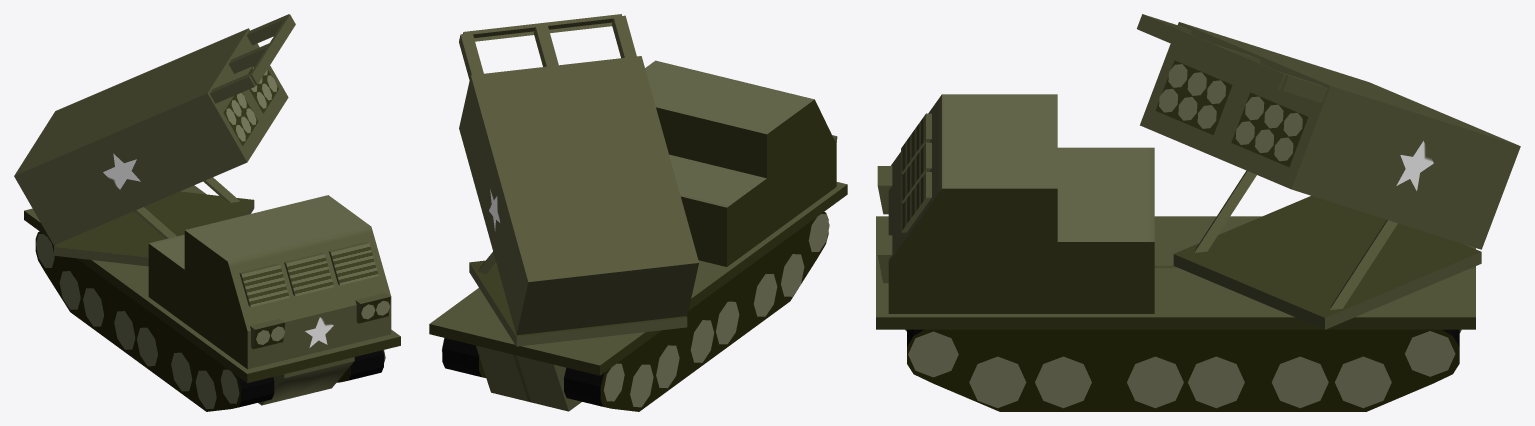
Rendered from MLRS.DAE.
3 renders of one model, left to right at view 1: azimuth 30°, elevation 25°; view 2: azimuth 150°, elevation 25°; view 3: azimuth 270°, elevation 25°, orthographic. The views are drawn at different scales.
Parts seen in each view (by area): view 1: MLRS; view 2: MLRS; view 3: MLRS.
Part boxes in pixels (x1=…): MLRS: x1=14, y1=14, x2=400, y2=411; MLRS: x1=429, y1=14, x2=847, y2=411; MLRS: x1=876, y1=14, x2=1520, y2=411.
Size of the model in its own units: 1266 by 1332 by 2114.
1 material, 1 textured.
